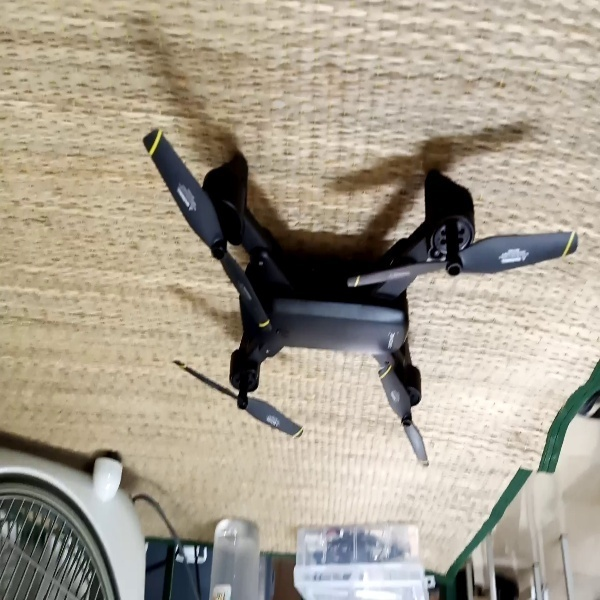drone: (138, 127, 579, 469)
